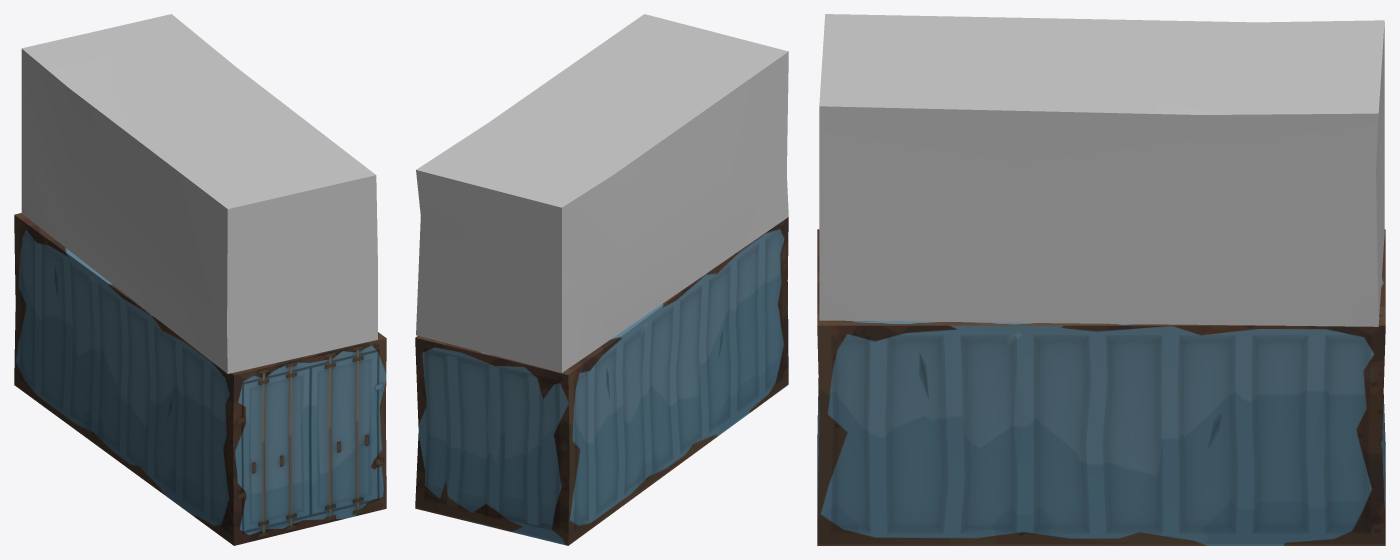
The model's file is SM_Bld_Wall_Chunk_01.fbx.
The picture shows the model from 3 angles, left to right: view 1: azimuth 30°, elevation 25°; view 2: azimuth 150°, elevation 25°; view 3: azimuth 270°, elevation 25°; orthographic projection. The views are drawn at different scales.
Visible parts, largest first — view 1: SM_Bld_Wall_Chunk_01; view 2: SM_Bld_Wall_Chunk_01; view 3: SM_Bld_Wall_Chunk_01.
Part boxes in pixels (bbox=[...]): SM_Bld_Wall_Chunk_01: bbox=[14, 14, 386, 545]; SM_Bld_Wall_Chunk_01: bbox=[415, 14, 788, 545]; SM_Bld_Wall_Chunk_01: bbox=[817, 14, 1385, 545].
Bounding box in the file's own units: 300 × 608 × 722.
